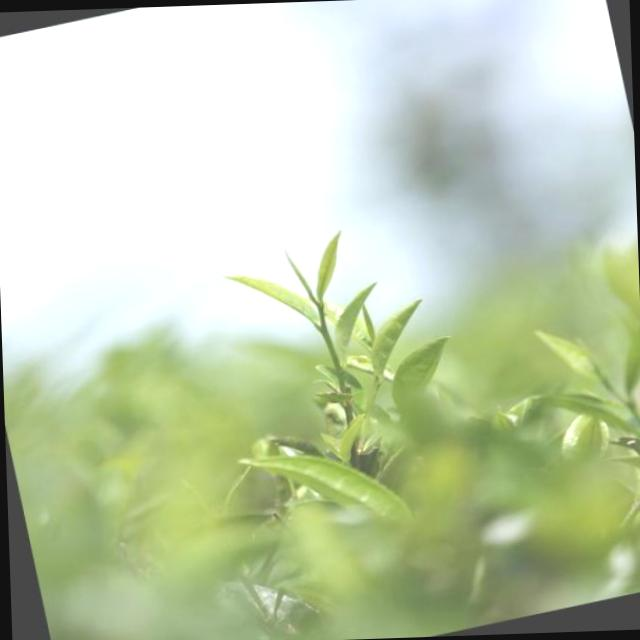Stem: (317, 304, 322, 311)
